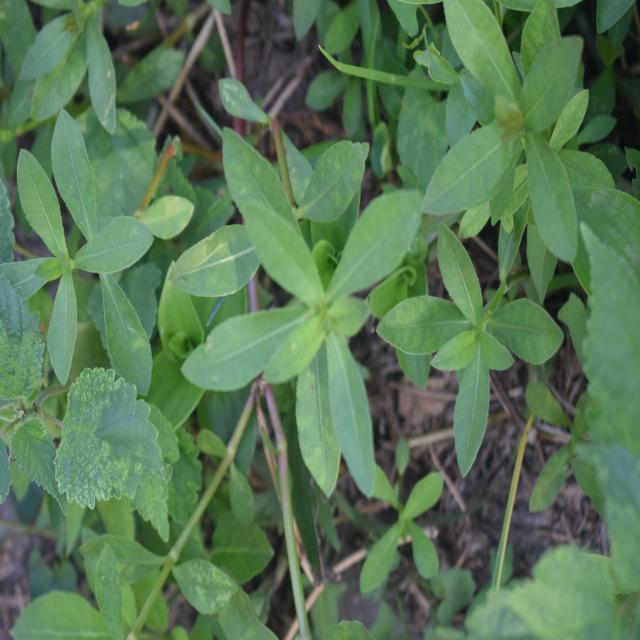Alligatorweed: (216, 138, 445, 486), (5, 110, 192, 391), (439, 16, 601, 268), (406, 220, 555, 461)
